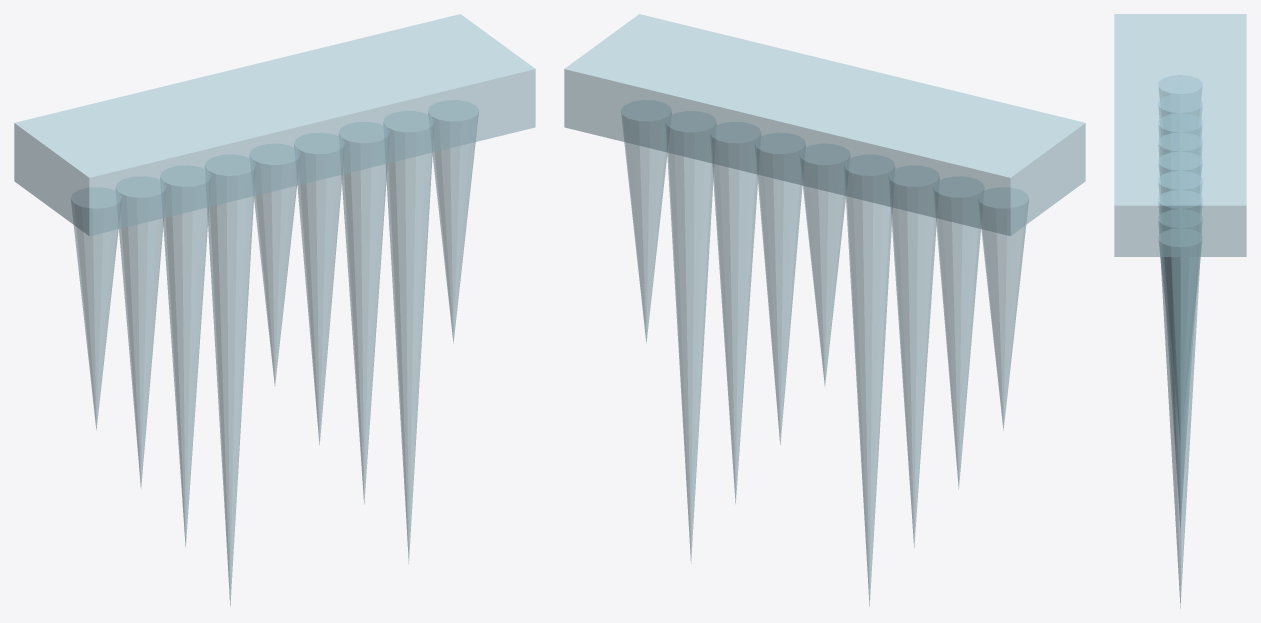
Rendered from alpine-and-arctic-biomes-icicle-cluster-b5759622__21044.glb.
The picture shows the model from 3 angles, left to right: view 1: azimuth 30°, elevation 25°; view 2: azimuth 150°, elevation 25°; view 3: azimuth 270°, elevation 25°; orthographic projection. The views are drawn at different scales.
Parts seen in each view (by area): view 1: icicle-cluster; view 2: icicle-cluster; view 3: icicle-cluster.
Boxes of the visible parts, left/top/right/bottom form: icicle-cluster: left=14, top=14, right=535, bottom=605; icicle-cluster: left=564, top=14, right=1085, bottom=605; icicle-cluster: left=1114, top=14, right=1246, bottom=608.
Size of the model in its own units: 1.2 by 1.29 by 0.35.
